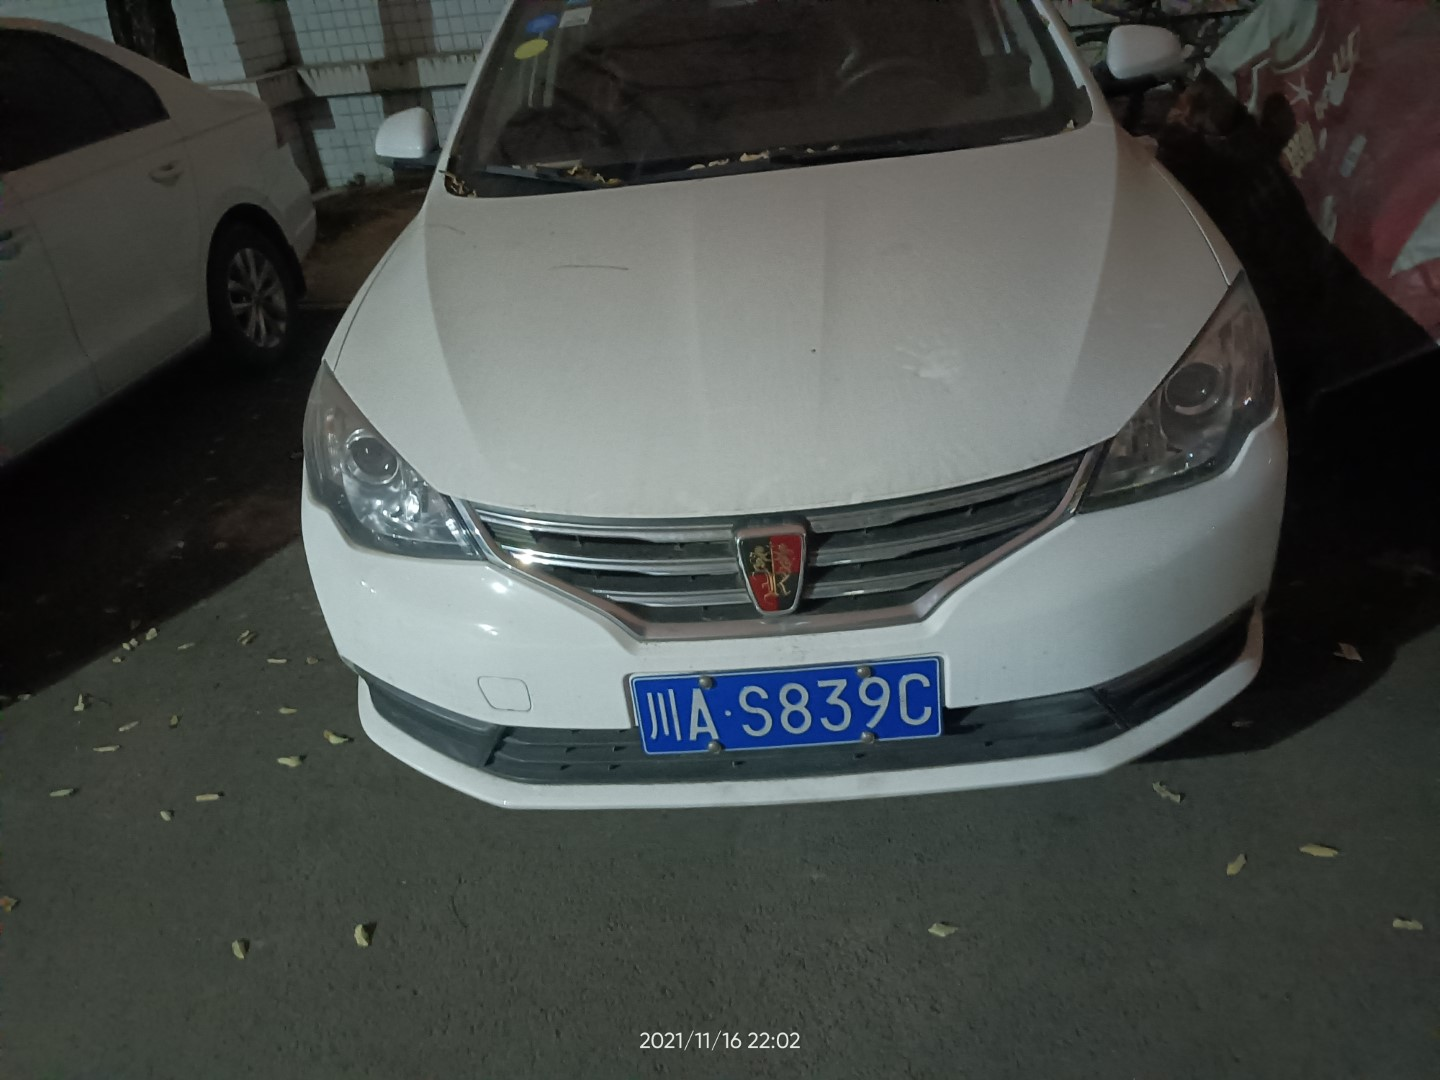plate: (630, 653, 943, 756)
